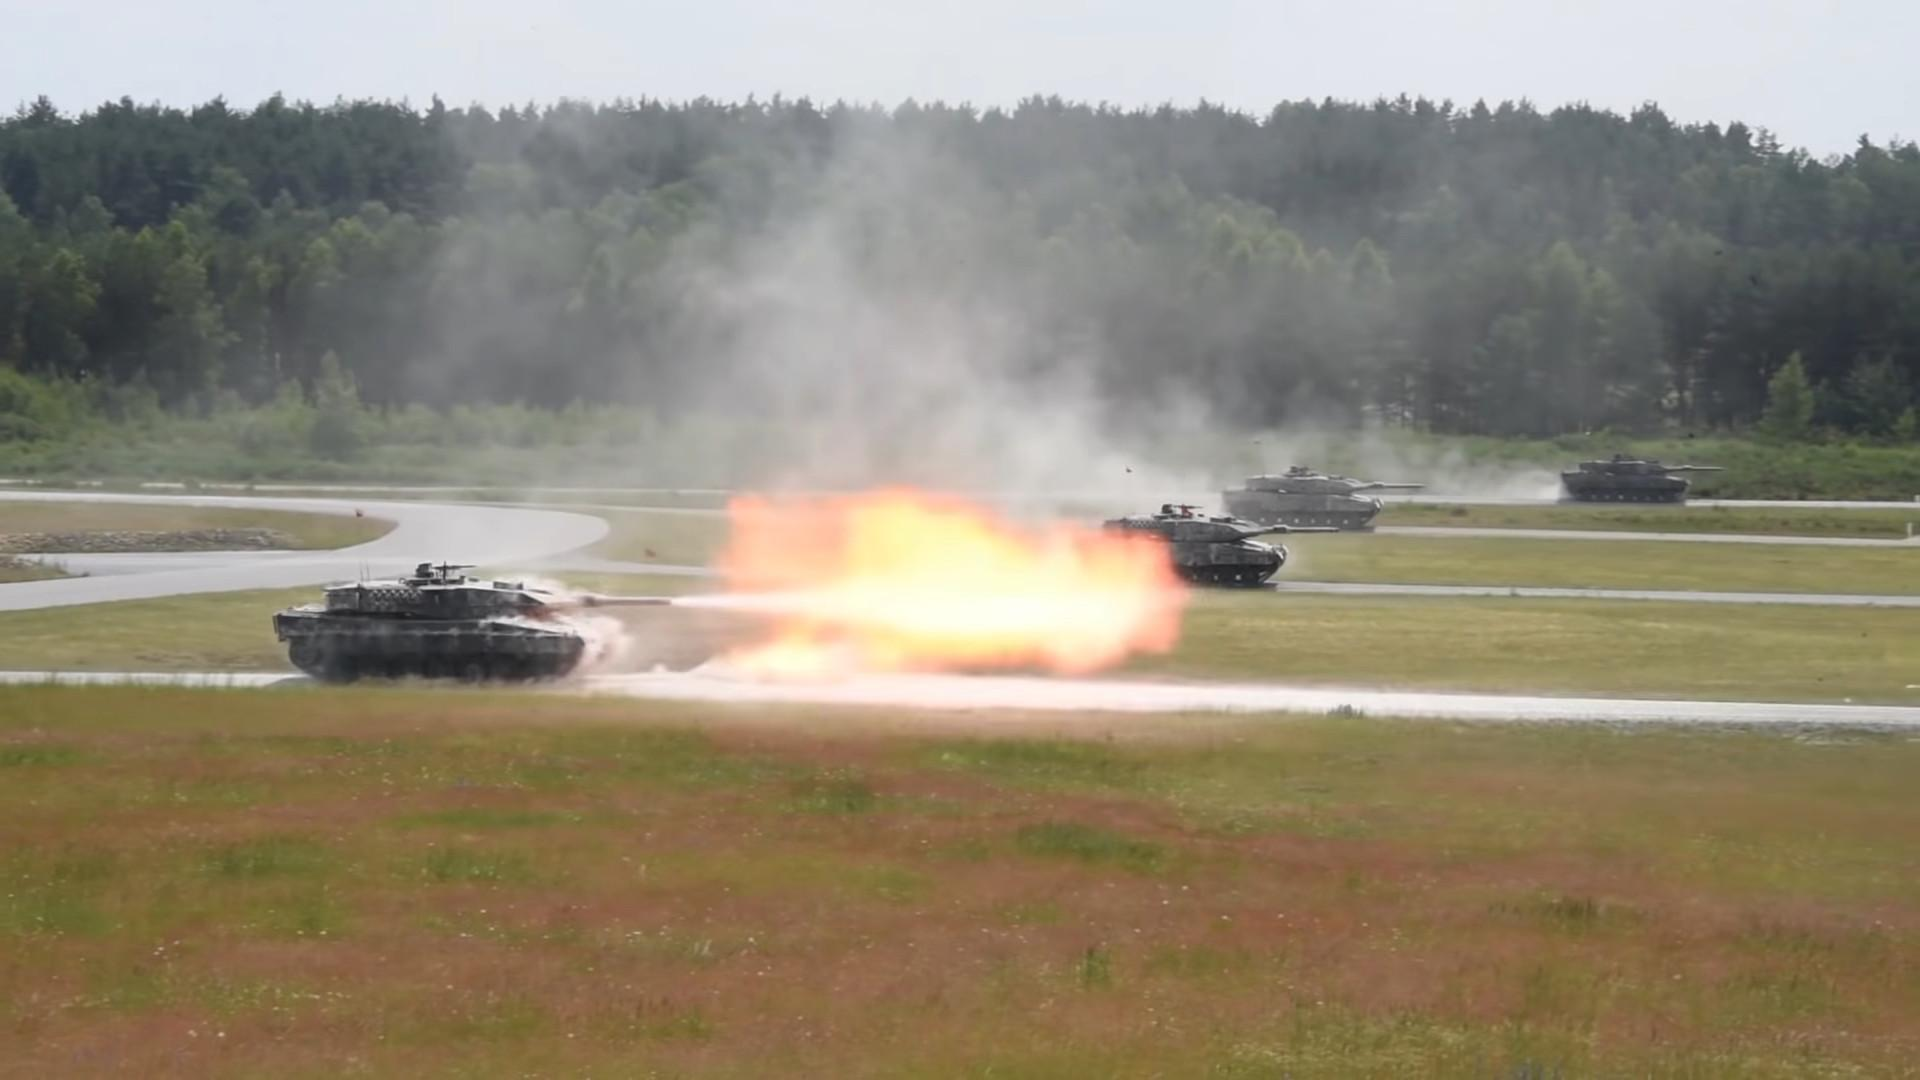tank: (274, 563, 670, 686), (1105, 505, 1338, 588), (1222, 467, 1424, 529), (1563, 462, 1726, 502)
